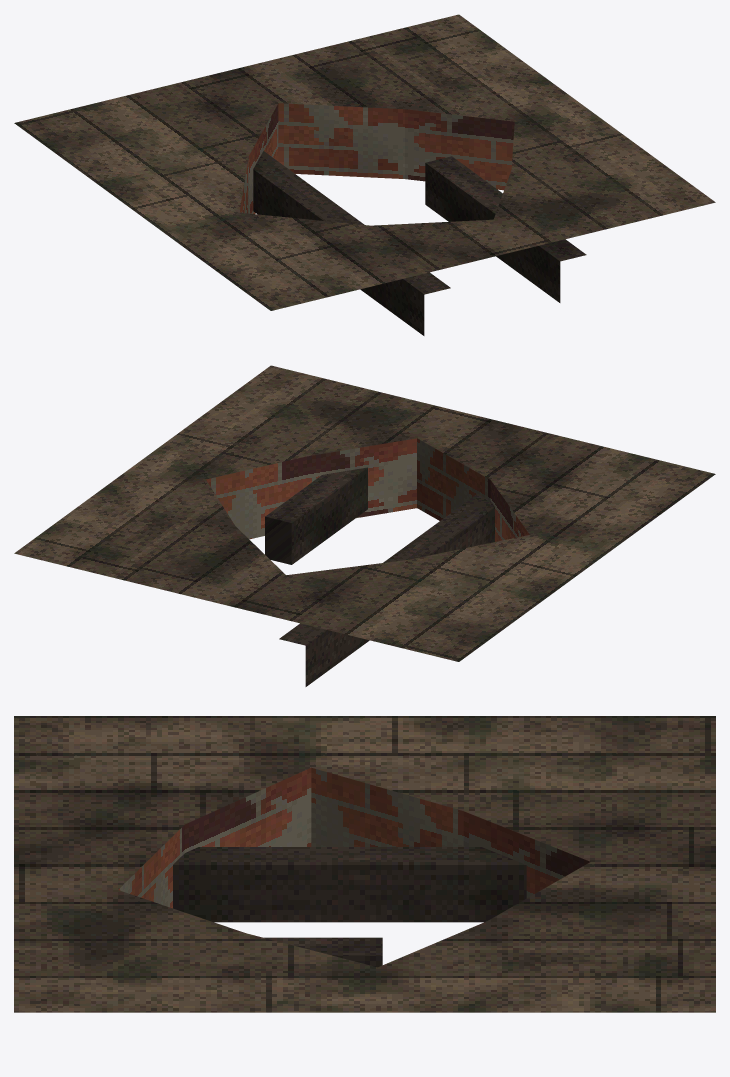
File: floor_planks_broken.gltf
3 renders of one model, top to bottom at view 1: azimuth 30°, elevation 25°; view 2: azimuth 150°, elevation 25°; view 3: azimuth 270°, elevation 25°, orthographic. The views are drawn at different scales.
Visible parts, largest first — view 1: floor_planks_broken-col; view 2: floor_planks_broken-col; view 3: floor_planks_broken-col.
Boxes of the visible parts, x1,y1,x2,y2 form: floor_planks_broken-col: (14,14,715,335); floor_planks_broken-col: (14,365,715,686); floor_planks_broken-col: (14,716,715,1012).
Bounding box in the file's own units: 2 × 0.3 × 2.
Materials: 3 (3 with a texture image).
